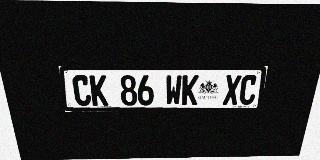6: (137, 75, 154, 105)
8: (120, 75, 137, 105)
C: (72, 75, 92, 106), (238, 75, 258, 105)
K: (89, 75, 108, 106), (181, 75, 199, 105)
W: (165, 75, 182, 105)
X: (222, 75, 242, 105)
